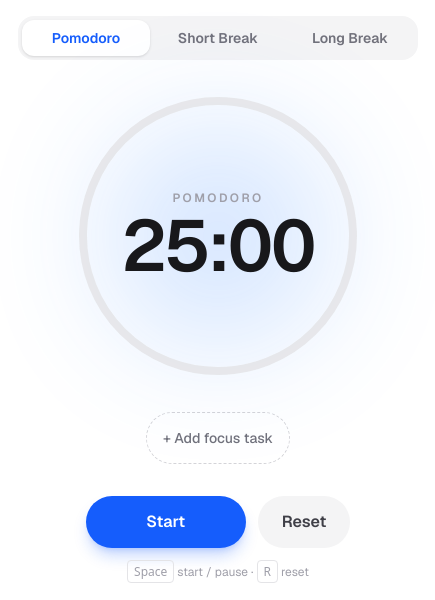
Scenario: Timer component › shows task input on "+ Add focus task" button click
Click the button "+ Add focus task".
click(218, 438)  # box [146,412,290,464]
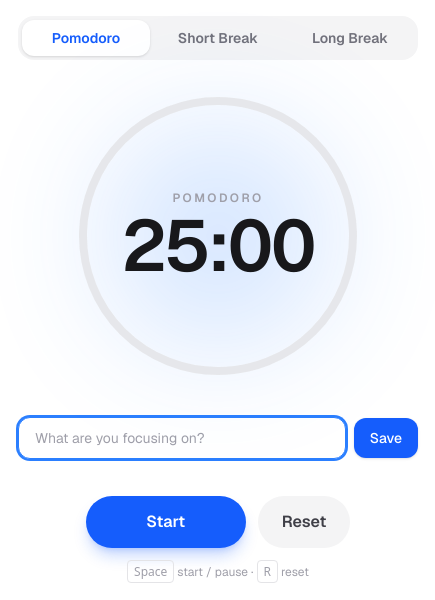
Check: the field with placeholder "What are you focusing on?" is shown, box [18,417,346,459]
